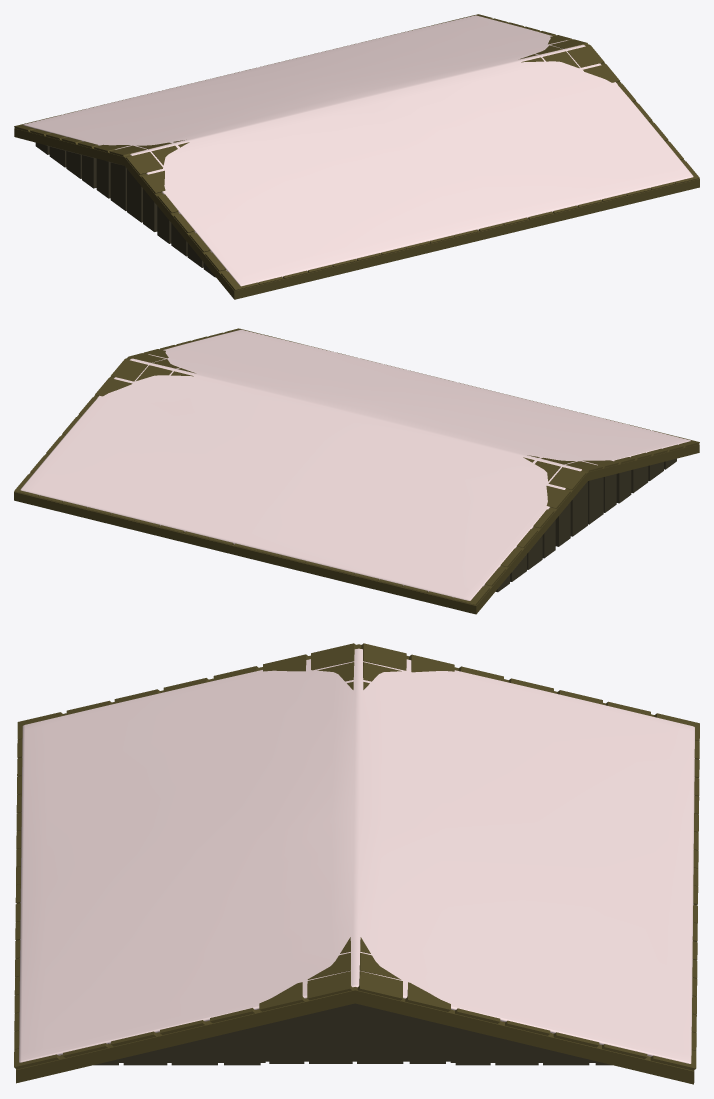
The model's file is Roof_Improved.fbx.
3 views of the same model, one above another, from view 1: azimuth 30°, elevation 25°; view 2: azimuth 150°, elevation 25°; view 3: azimuth 270°, elevation 25° (orthographic). The views are drawn at different scales.
Parts seen in each view (by area): view 1: pasted__pCube9, pasted__pCube1, pasted__pCube88, pasted__pCube87, pasted__pCube89, pasted__RoofTile9, pasted__RoofTile18; view 2: pasted__pCube9, pasted__pCube1, pasted__pCube88, pasted__pCube89, pasted__pCube87, pasted__RoofTile9, pasted__RoofTile18; view 3: pasted__pCube9, pasted__pCube1, pasted__pCube84, pasted__pCube85, pasted__pCube83, pasted__RoofTile18 (×2), pasted__RoofTile9 (×2), pasted__RoofTile37.
Part boxes in pixels (bbox=[...]): pasted__pCube9: bbox=[23, 15, 693, 286]; pasted__pCube1: bbox=[14, 44, 699, 299]; pasted__pCube88: bbox=[96, 158, 157, 231]; pasted__pCube87: bbox=[35, 142, 96, 188]; pasted__pCube89: bbox=[157, 206, 215, 277]; pasted__RoofTile9: bbox=[126, 152, 162, 174]; pasted__RoofTile18: bbox=[567, 45, 604, 67]; pasted__pCube9: bbox=[20, 329, 690, 600]; pasted__pCube1: bbox=[14, 358, 699, 614]; pasted__pCube88: bbox=[555, 474, 616, 546]; pasted__pCube89: bbox=[616, 458, 676, 503]; pasted__pCube87: bbox=[495, 520, 555, 592]; pasted__RoofTile9: bbox=[548, 467, 586, 489]; pasted__RoofTile18: bbox=[111, 359, 147, 381]; pasted__pCube9: bbox=[19, 648, 694, 1063]; pasted__pCube1: bbox=[16, 644, 694, 1084]; pasted__pCube84: bbox=[264, 1003, 450, 1063]; pasted__pCube85: bbox=[93, 1024, 265, 1065]; pasted__pCube83: bbox=[450, 1026, 612, 1065]; pasted__RoofTile18 (×2): bbox=[307, 971, 402, 1000]; pasted__RoofTile9 (×2): bbox=[311, 643, 406, 670]; pasted__RoofTile37: bbox=[259, 982, 304, 1011].
Bounding box in the file's own units: 17.79 × 2.31 × 14.84.
